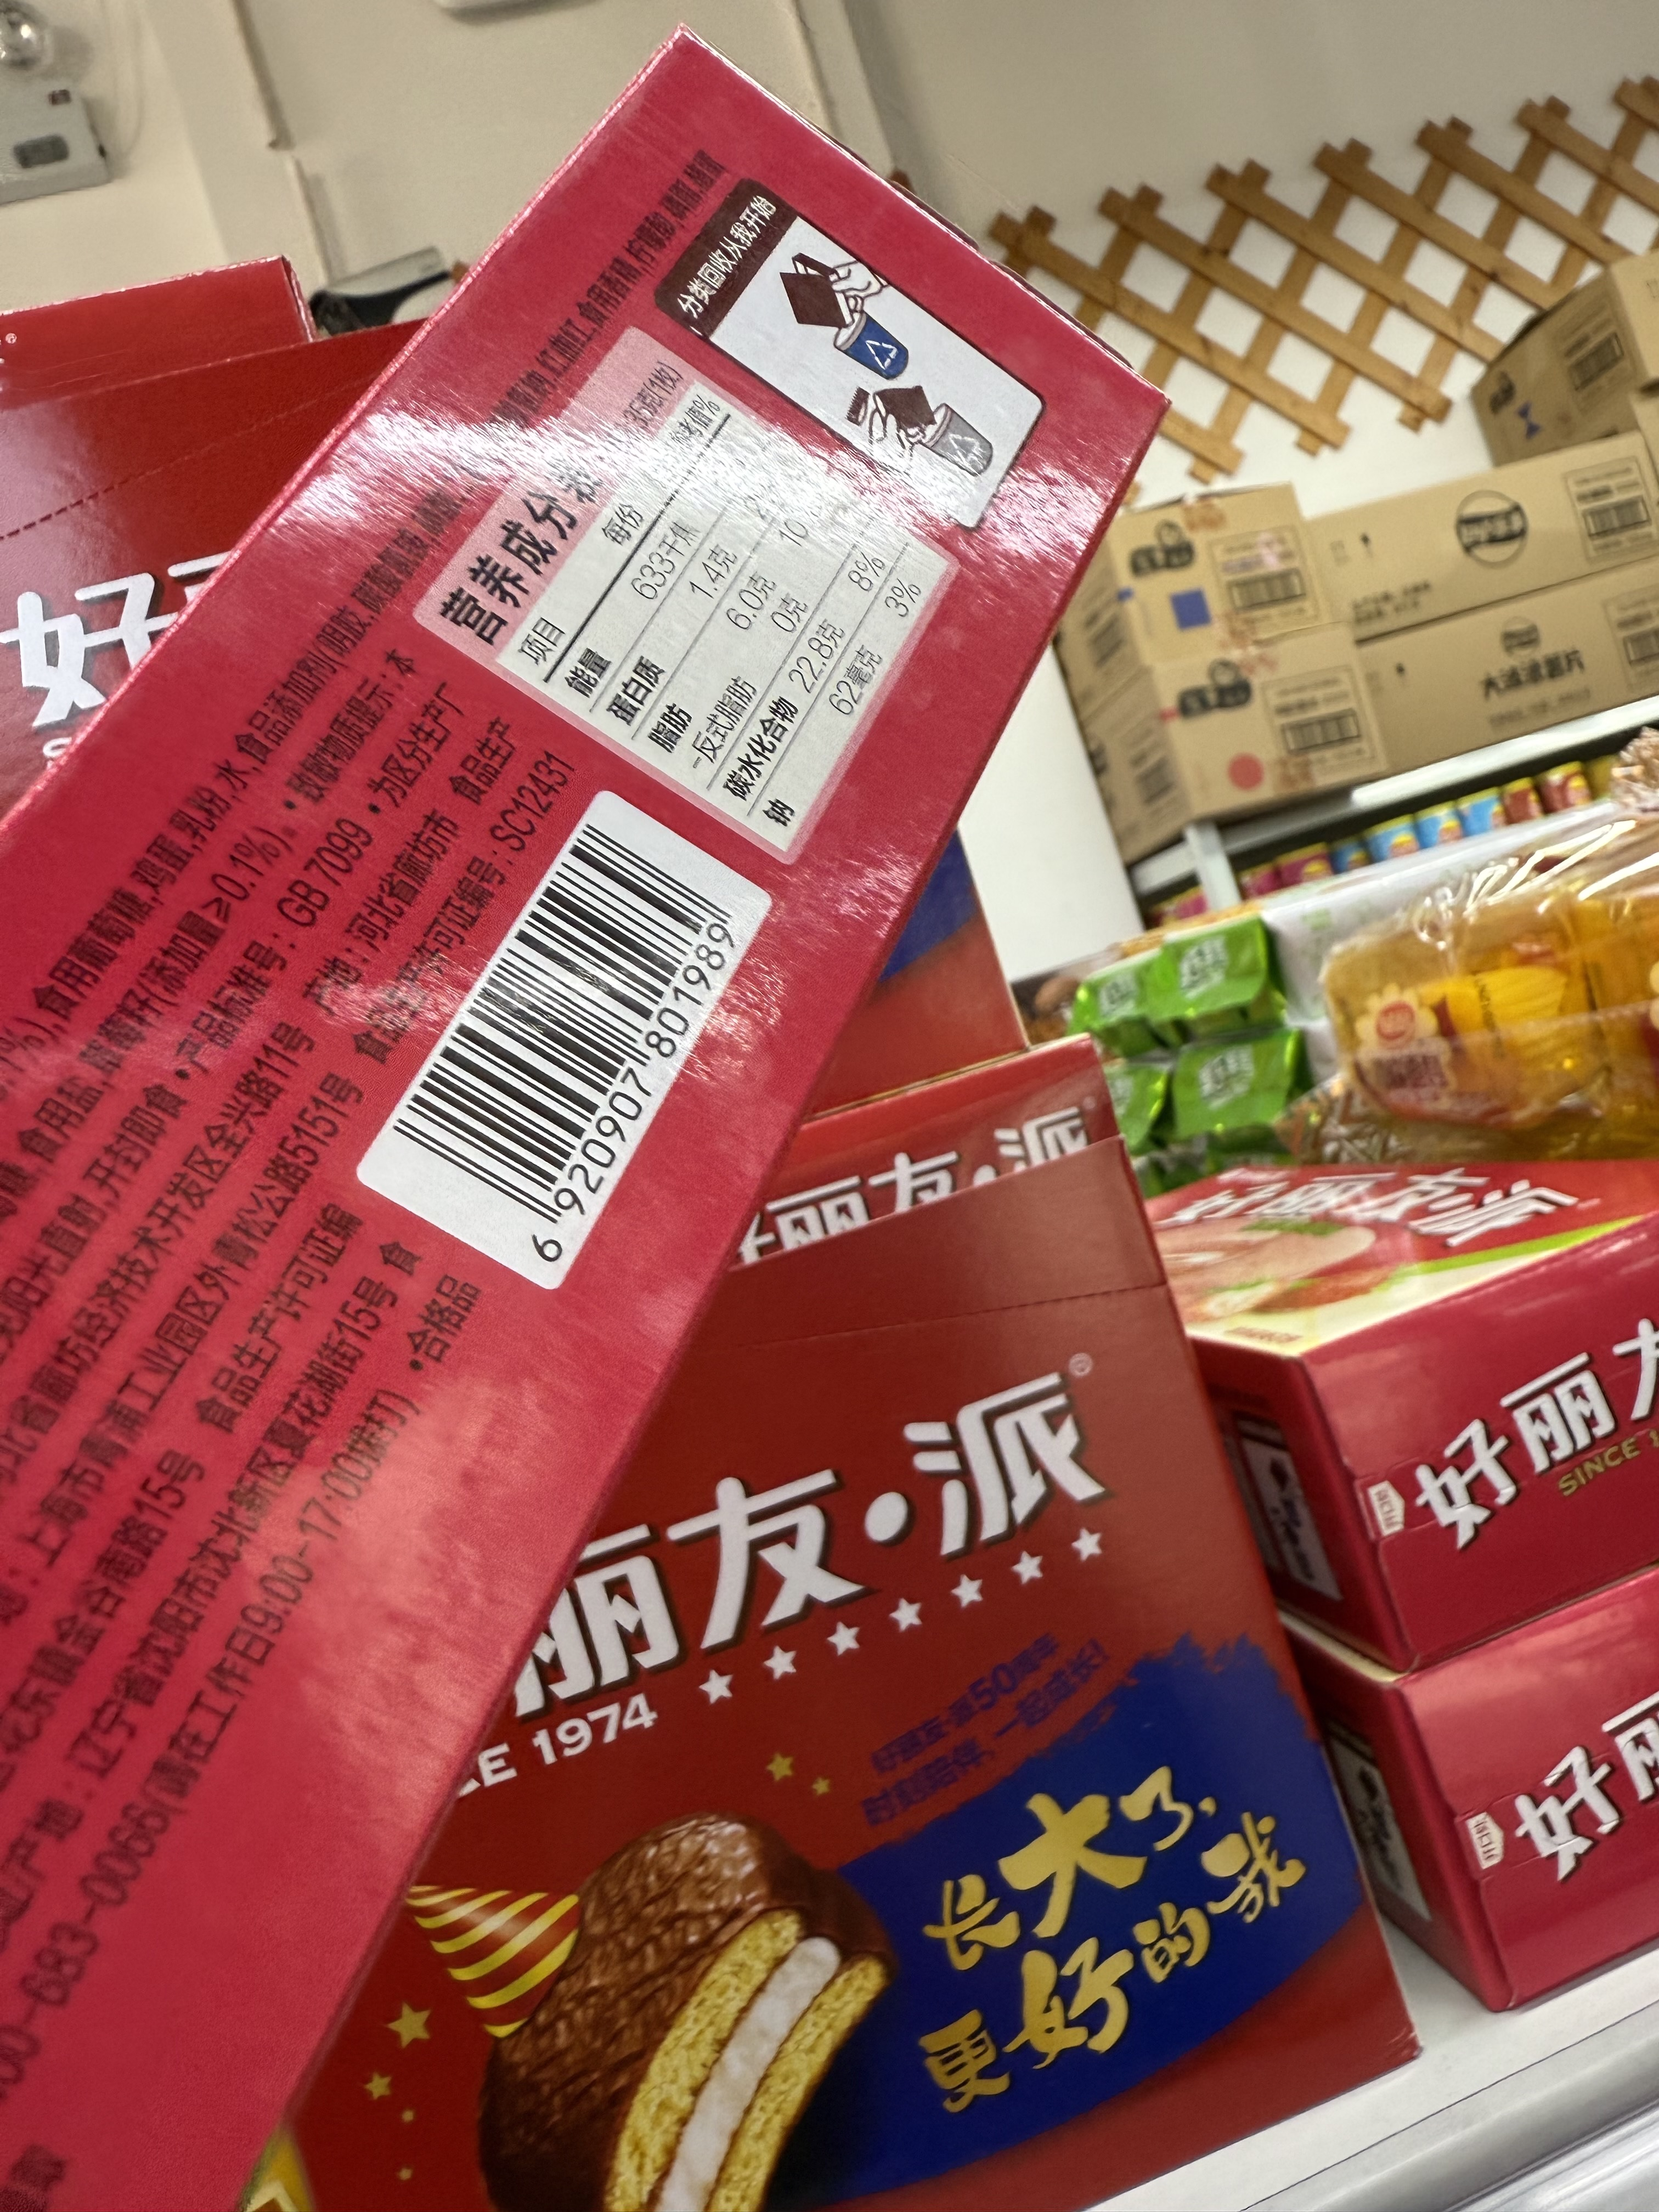bar: (387, 820, 741, 1231)
